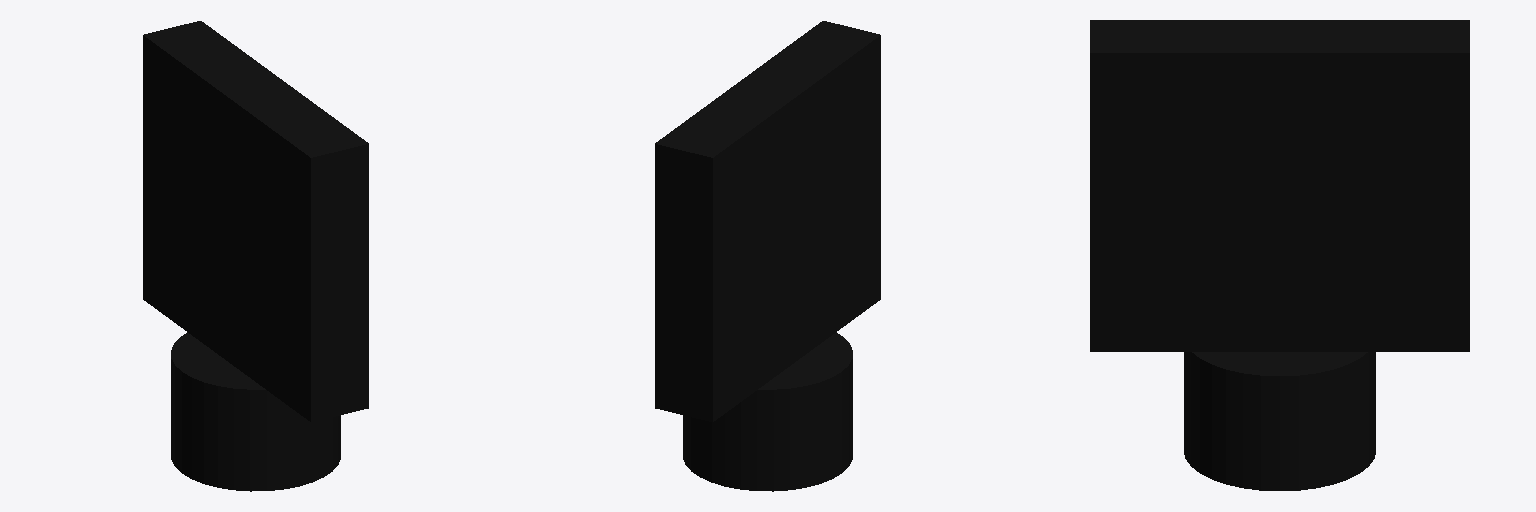
The robot description file, URDF, robot "dummy_robotiq_gripper":
<?xml version="1.0"?>
<robot xmlns:xacro="http://ros.org/wiki/xacro"
       name="dummy_robotiq_gripper" >

  <!-- Gripper Base -->
  <link name="dummy_bottom" >
    <!-- <origin xyz="0 0 0.1" rpy="0 0 0"/> -->
    <visual>
      <geometry>
        <cylinder radius="0.038" length="0.05"/>
      </geometry>
      <material name="">
        <color rgba="0.1 0.1 0.1 1"/>
      </material>
    </visual>
    <collision>
      <geometry>
        <cylinder radius="0.038" length="0.05"/>
      </geometry>
    </collision>
  </link>

  <!-- Gripper Fingers (accounts for open and close positions) -->
  <link name="dummy_fingers" >
    <visual>
      <geometry>
        <box size="0.03 0.15 0.13"/>
      </geometry>
      <material name="">
        <color rgba="0.1 0.1 0.1 1"/>
      </material>
    </visual>
    <collision>
      <geometry>
        <box size="0.03 0.15 0.13"/>
      </geometry>
    </collision>
  </link>
 
  <!-- Base to Finger joint -->
  <joint name="base_to_finger_joint" type="fixed">
    <origin xyz="0 0 0.09" rpy = "0 0 0"/>
    <parent link="dummy_bottom"/>
    <child link="dummy_fingers"/>
  </joint>

</robot>

--- What the picture shows (computed from the rendered views, not written in the file) ---
The picture shows the robot from 3 angles, left to right: view 1: azimuth 30°, elevation 25°; view 2: azimuth 150°, elevation 25°; view 3: azimuth 270°, elevation 25°; orthographic projection.
Model dummy_robotiq_gripper with 2 links and 1 joints (1 fixed), rooted at dummy_bottom, posed all joints at 0.
Visible links, largest first — view 1: dummy_fingers, dummy_bottom; view 2: dummy_fingers, dummy_bottom; view 3: dummy_fingers, dummy_bottom.
Boxes of the visible links, x1,y1,x2,y2 form: dummy_fingers: [143, 21, 368, 421]; dummy_bottom: [171, 332, 340, 491]; dummy_fingers: [655, 21, 880, 421]; dummy_bottom: [683, 332, 852, 491]; dummy_fingers: [1090, 20, 1469, 351]; dummy_bottom: [1184, 352, 1375, 490].
Bounding box of the posed robot: 0.076 × 0.15 × 0.18 m (x, y, z).
Geometry: primitives only (box / cylinder / sphere), no mesh files.
